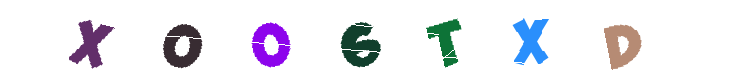6: (334, 0, 414, 80)
D: (516, 0, 596, 80)
O: (231, 0, 311, 80), (234, 0, 314, 80)
T: (403, 0, 483, 80)
X: (61, 0, 141, 80), (490, 0, 570, 80)
